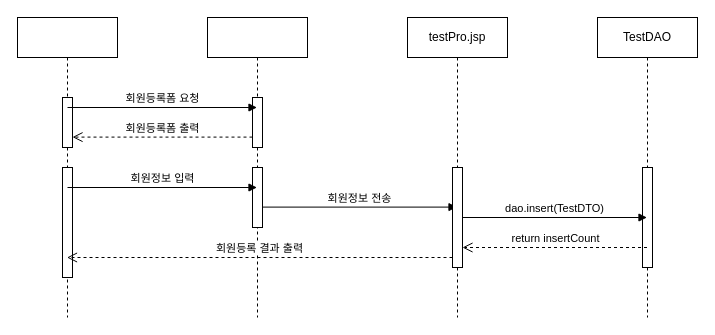
The diagram is 715 pixels wide and 335 high, and some of its shapes have lost their labels. The centre of each missing label's shape, as x and y in pixels:
Client: point 67,167
testForm.jsp: point 257,167
